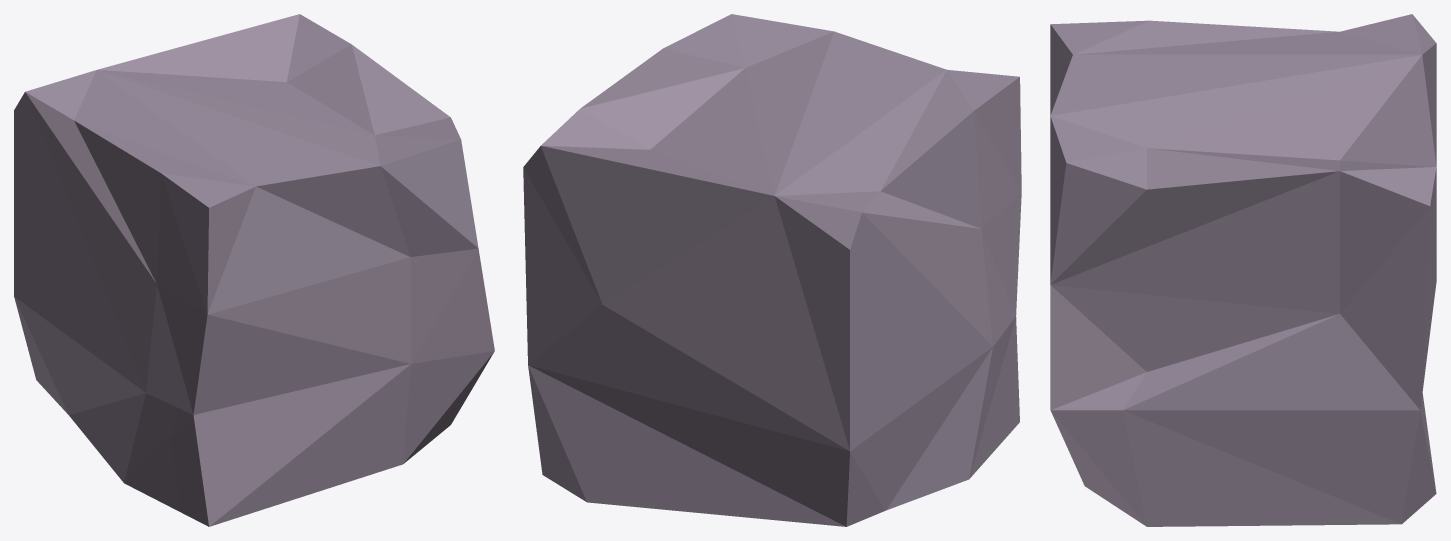
Rendered from Rock.obj.
3 renders of one model, left to right at view 1: azimuth 30°, elevation 25°; view 2: azimuth 150°, elevation 25°; view 3: azimuth 270°, elevation 25°, orthographic. The views are drawn at different scales.
Parts seen in each view (by area): view 1: pCube20; view 2: pCube20; view 3: pCube20.
Part boxes in pixels (box(x1,y1,x2,y2)): pCube20: box(14, 14, 494, 526); pCube20: box(523, 14, 1021, 526); pCube20: box(1050, 14, 1436, 526).
Size of the model in its own units: 8 by 8.05 by 8.
1 material, 1 textured.
